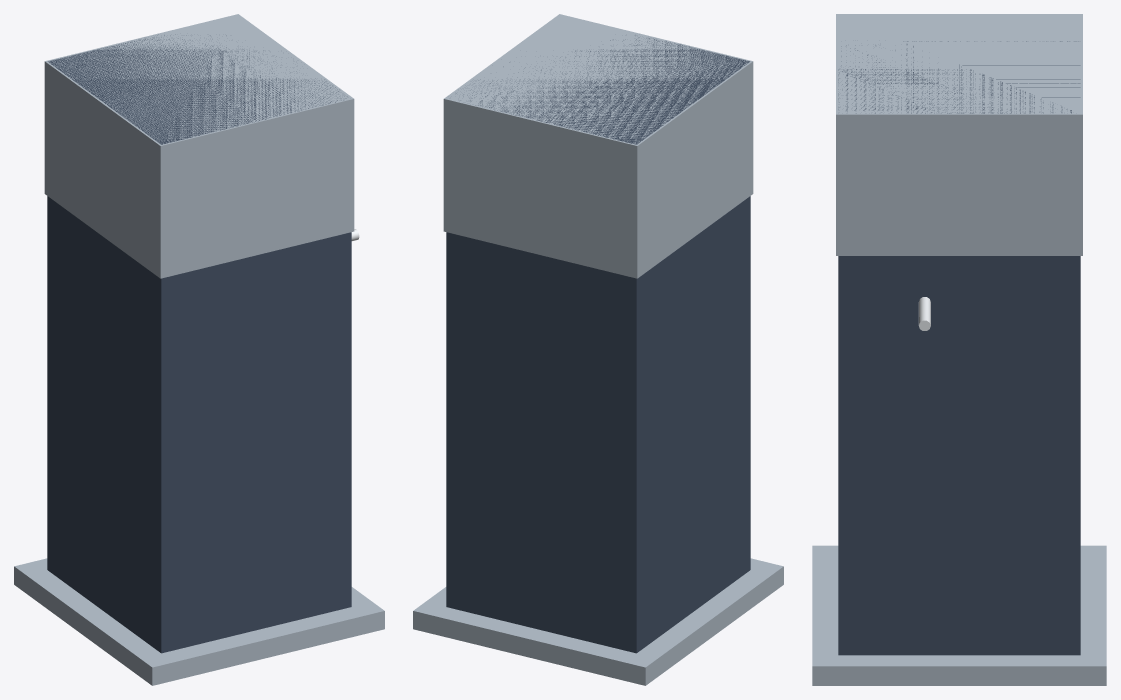
File: equip-air-handler.glb
The picture shows the model from 3 angles, left to right: view 1: azimuth 30°, elevation 25°; view 2: azimuth 150°, elevation 25°; view 3: azimuth 270°, elevation 25°; orthographic projection. The views are drawn at different scales.
Parts seen in each view (by area): view 1: hvac-equipment-air-handler; view 2: hvac-equipment-air-handler; view 3: hvac-equipment-air-handler.
Part boxes in pixels (x1,y1,x2,y2): hvac-equipment-air-handler: (14, 14, 384, 685); hvac-equipment-air-handler: (413, 14, 783, 685); hvac-equipment-air-handler: (812, 14, 1106, 685).
Bounding box in the file's own units: 0.73 × 1.43 × 0.68.
